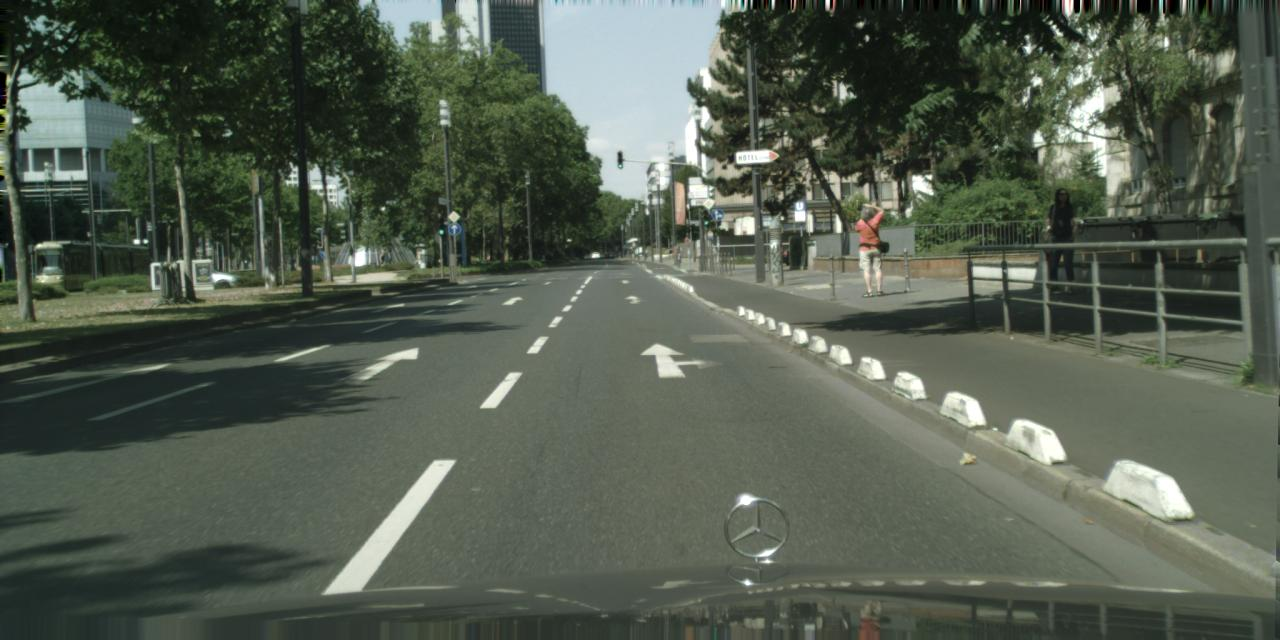ped: (1040, 187, 1083, 292), (850, 202, 889, 296), (379, 251, 385, 266), (675, 244, 681, 259)
